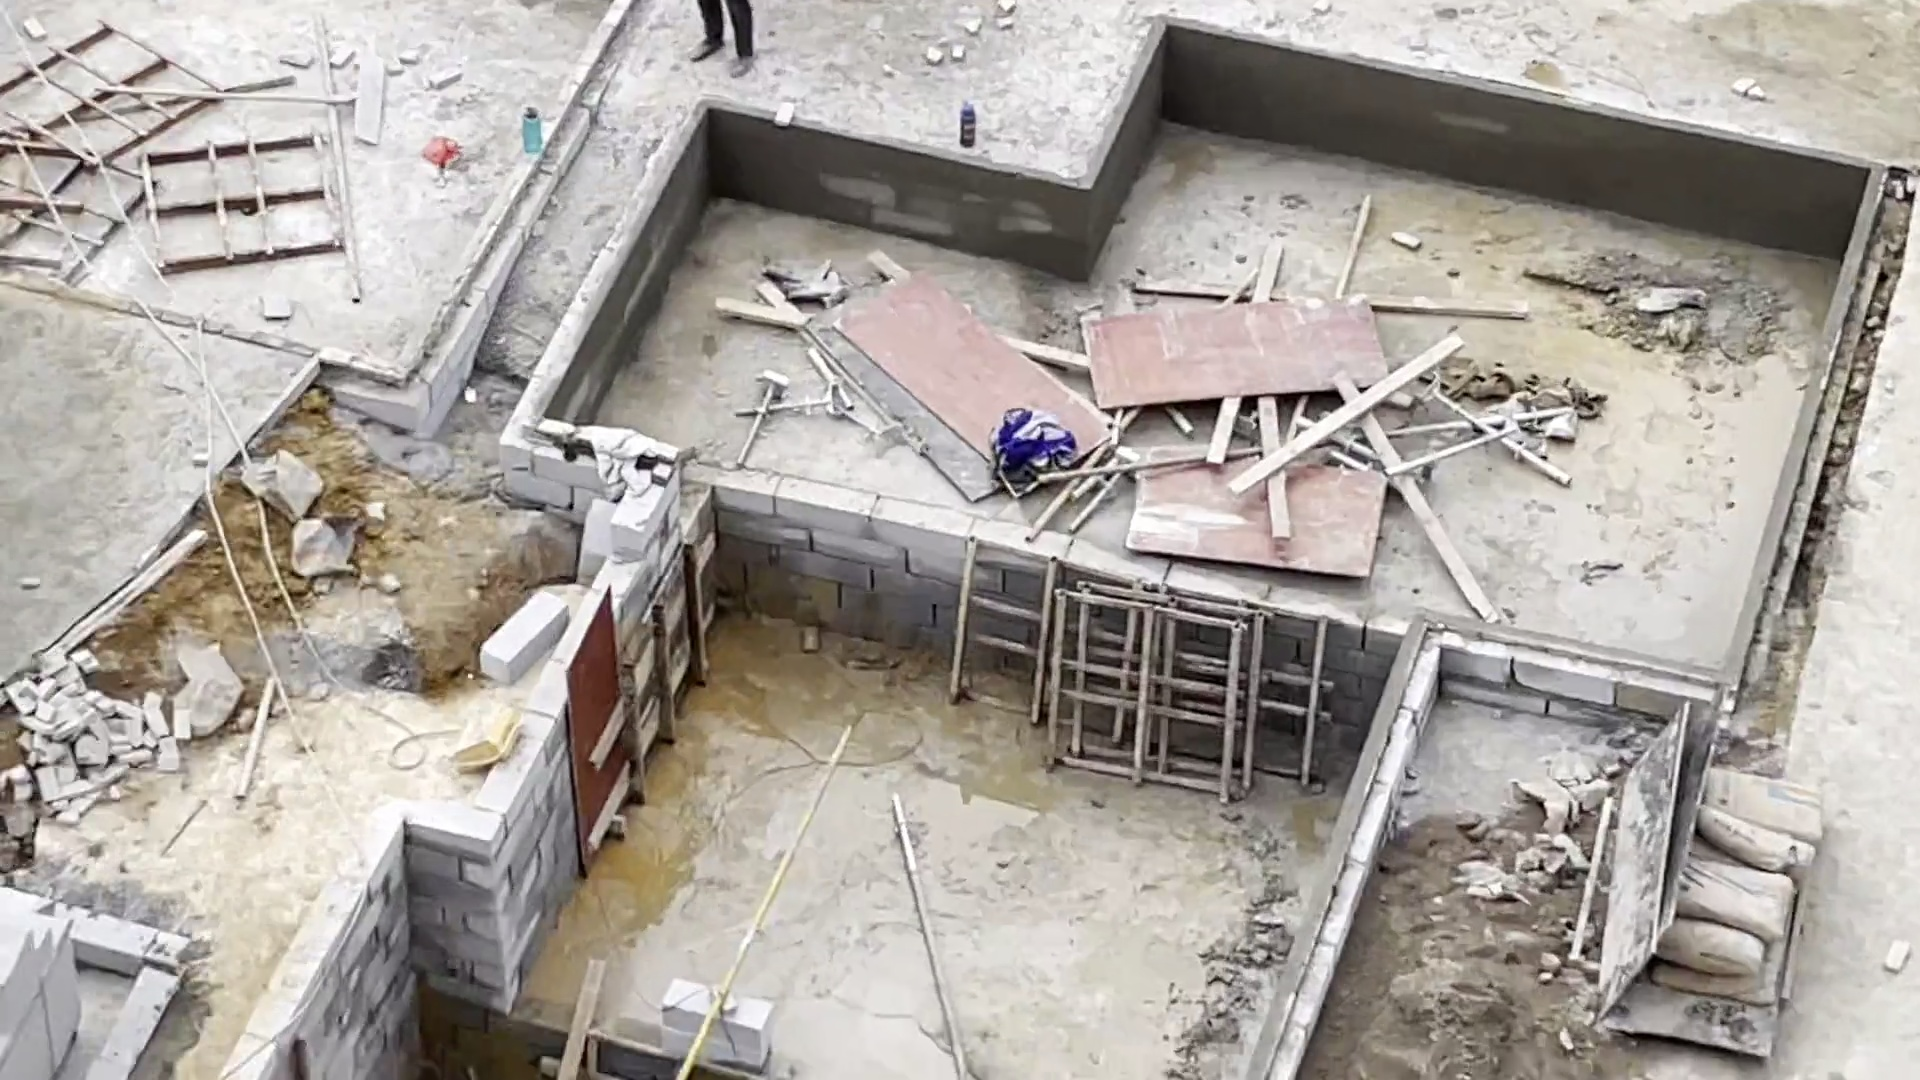person: (684, 1, 764, 79)
